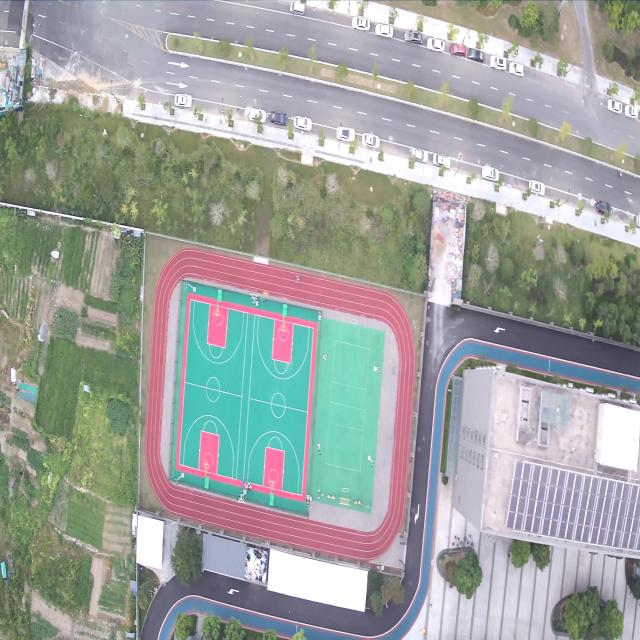drone: (411, 318, 417, 329)
